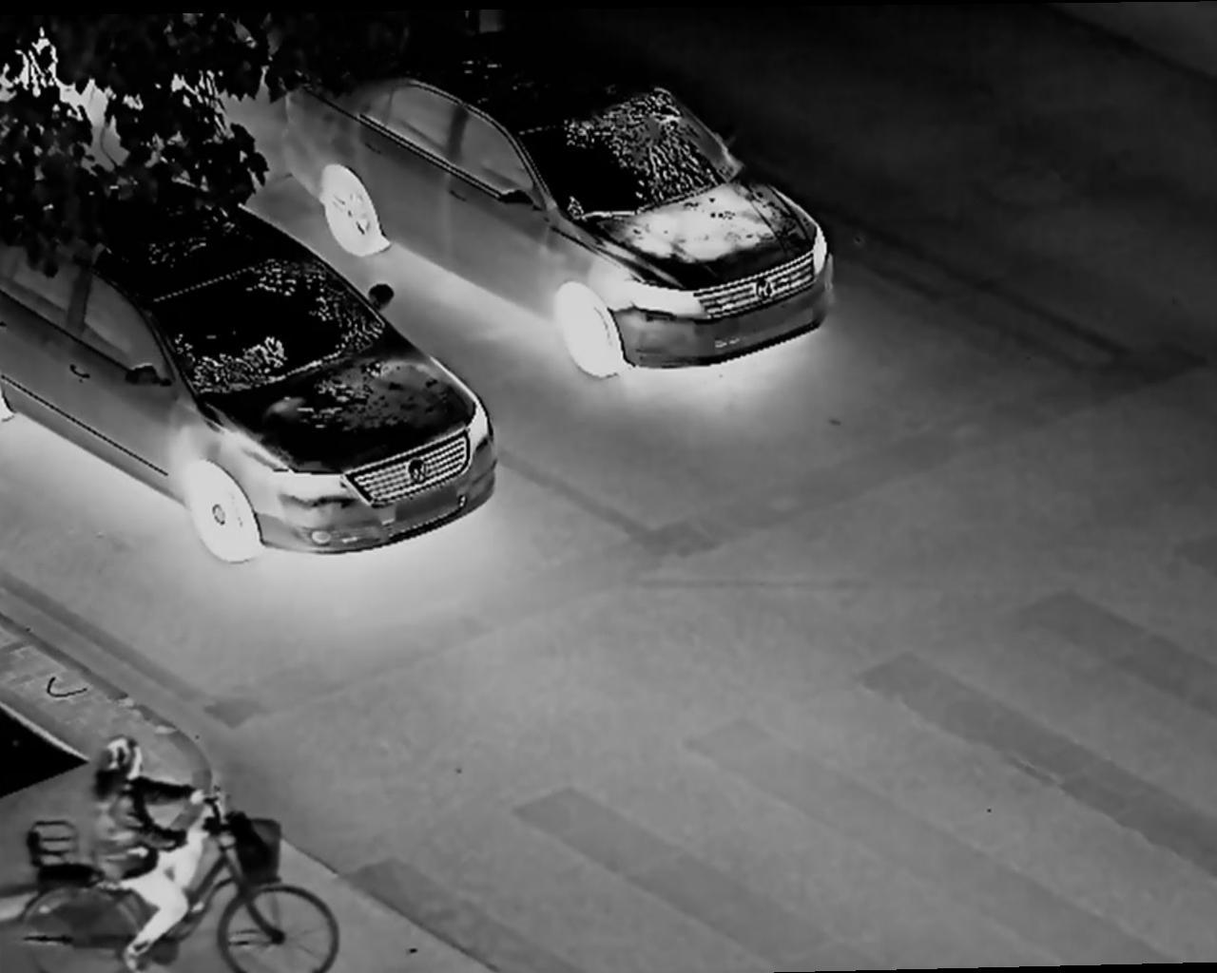person: (85, 731, 198, 958)
